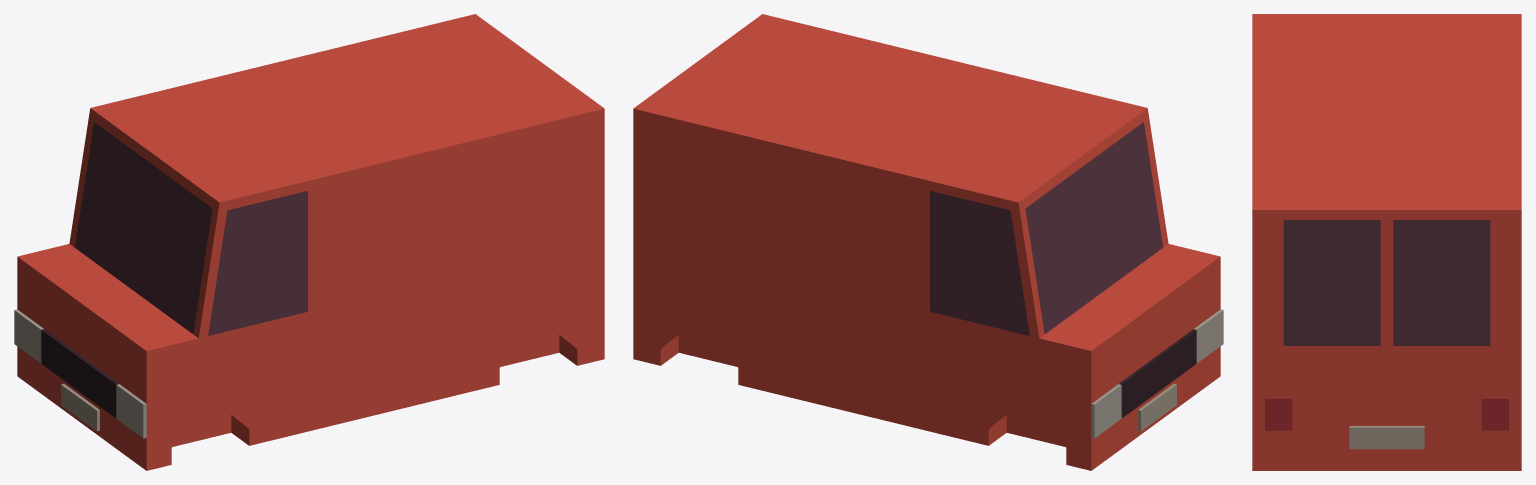
Rendered from Van_Red.fbx.
3 renders of one model, left to right at view 1: azimuth 30°, elevation 25°; view 2: azimuth 150°, elevation 25°; view 3: azimuth 270°, elevation 25°, orthographic. The views are drawn at different scales.
Parts seen in each view (by area): view 1: Van_Red, Van_Lights; view 2: Van_Red, Van_Lights; view 3: Van_Red, Van_Lights.
Part boxes in pixels (x1,y1,x2,y2): Van_Red: (17,14,604,470); Van_Lights: (14,309,146,438); Van_Red: (633,14,1220,470); Van_Lights: (1091,309,1223,438); Van_Red: (1252,14,1521,470); Van_Lights: (1265,397,1508,430).
Bounding box in the file's own units: 4.46 × 2.3 × 2.15.
